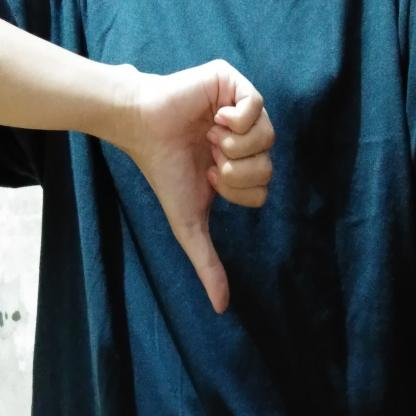no: (116, 56, 285, 320)
